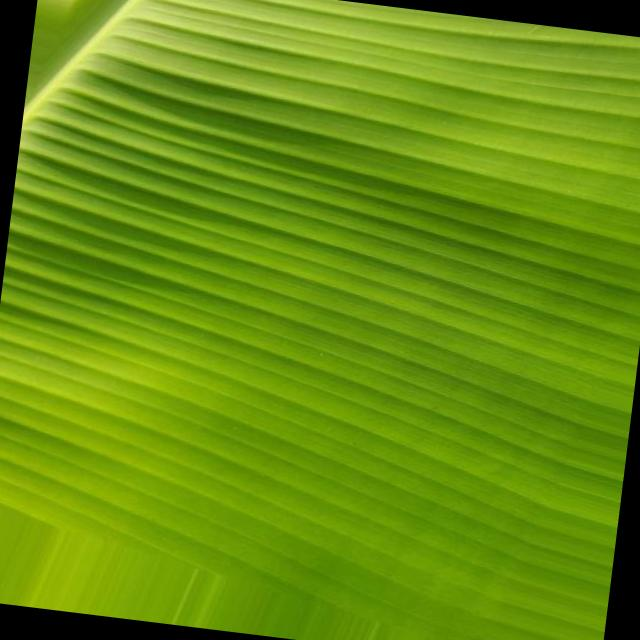Banana_Healthy: (100, 69, 620, 540)
